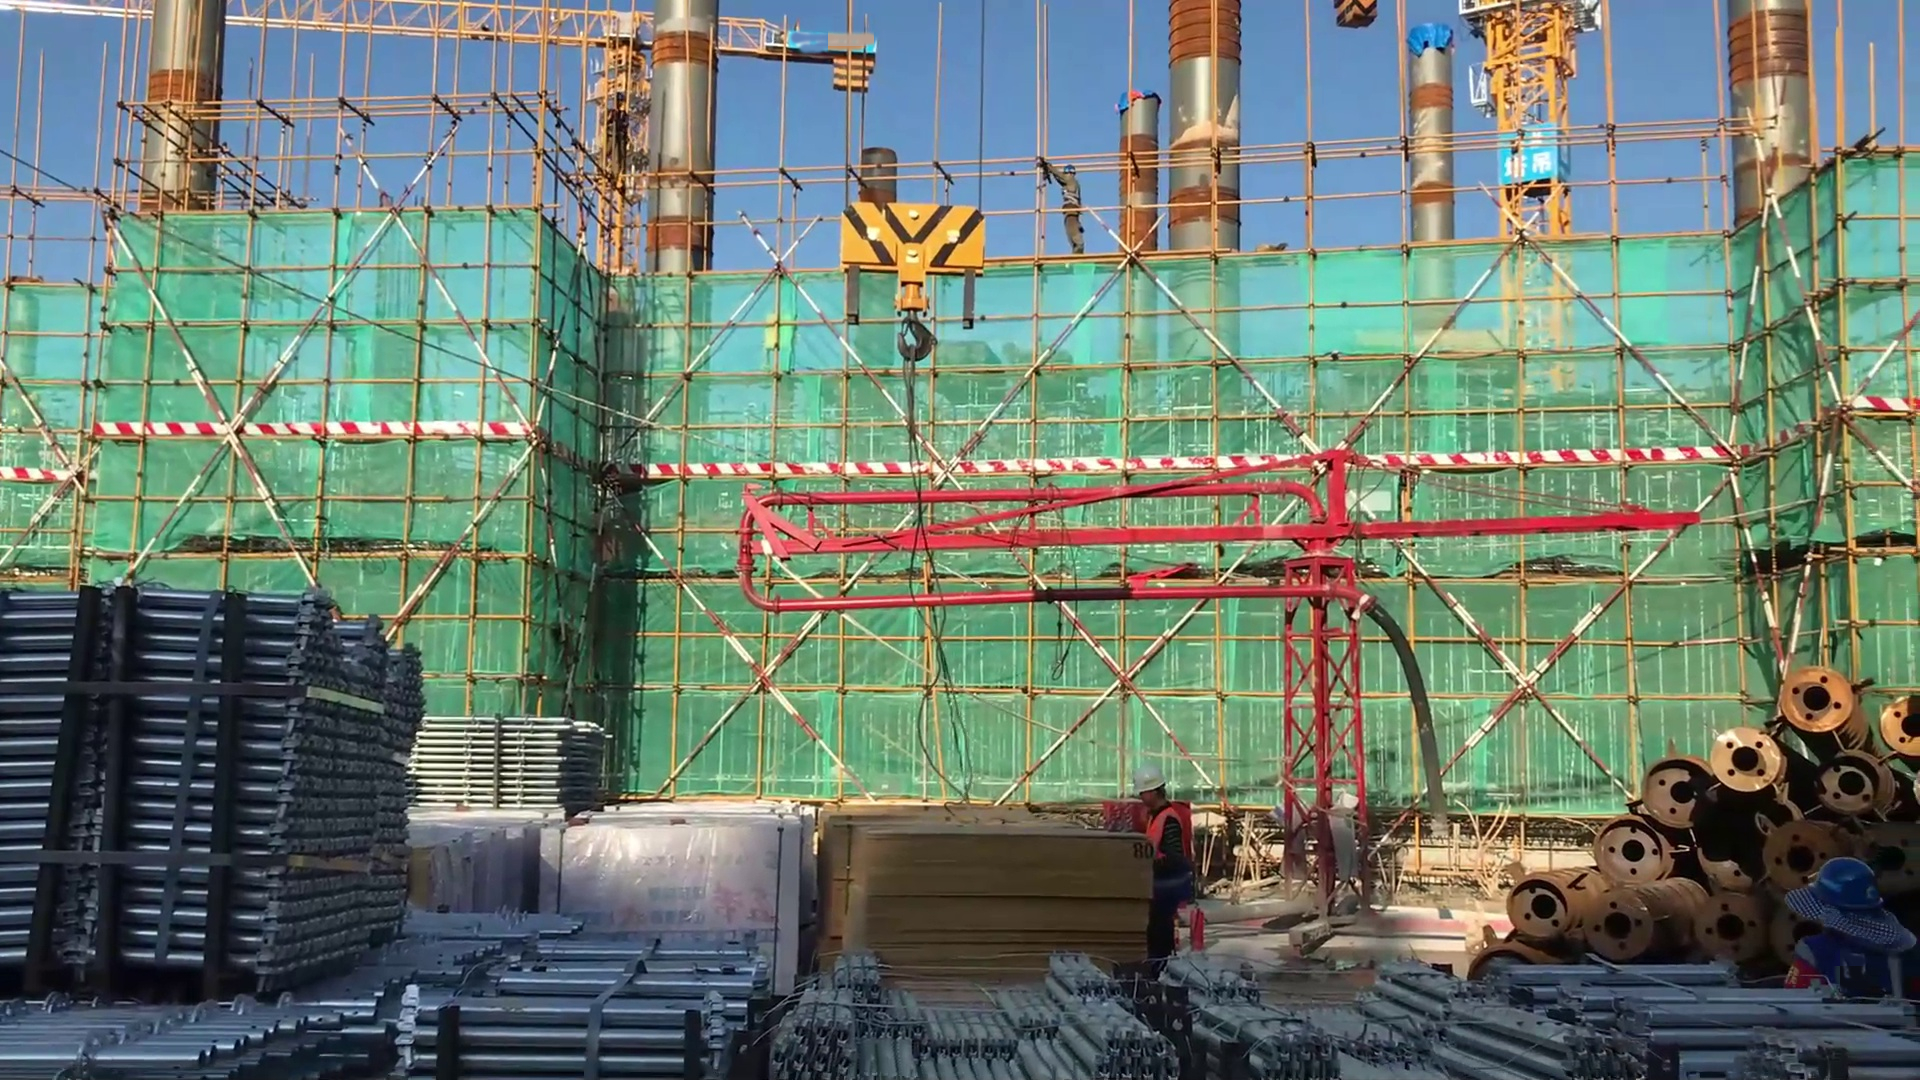board: (819, 807, 1149, 986)
helmet: (1800, 858, 1894, 924), (1126, 768, 1176, 794), (1061, 158, 1080, 177)
hook: (837, 194, 1005, 398)
person: (1784, 854, 1917, 1028), (1126, 765, 1199, 985), (1038, 158, 1093, 264)
scaffold: (2, 562, 422, 1080), (773, 952, 1336, 1080), (1348, 952, 1920, 1078), (418, 899, 779, 1076), (422, 720, 605, 814)
slogan: (1497, 117, 1568, 196)
vest: (1785, 931, 1920, 1013), (1142, 805, 1198, 913)
